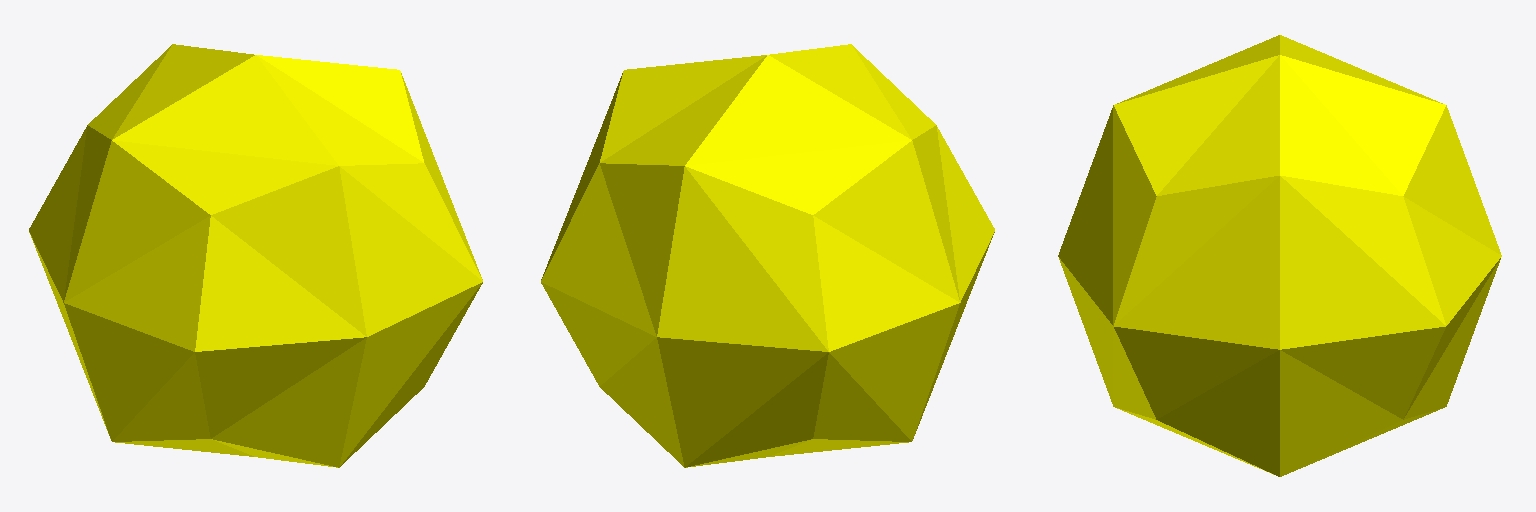
Rendered from bolaAmarilla.obj.
The picture shows the model from 3 angles: view 1: azimuth 30°, elevation 25°; view 2: azimuth 150°, elevation 25°; view 3: azimuth 270°, elevation 25°; orthographic projection.
Parts seen in each view (by area): view 1: Cube1; view 2: Cube1; view 3: Cube1.
Part boxes in pixels (x1,y1,x2,y2): Cube1: (29,44,482,467); Cube1: (541,44,994,467); Cube1: (1058,35,1501,476).
Size of the model in its own units: 2 by 2 by 2.